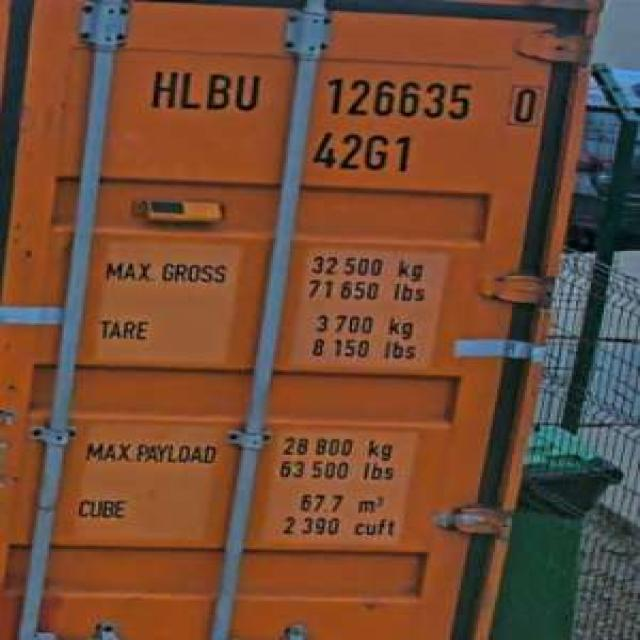dv: (504, 82, 545, 126)
owner: (143, 64, 264, 118)
serial: (318, 74, 476, 121)
size: (307, 126, 414, 176)
